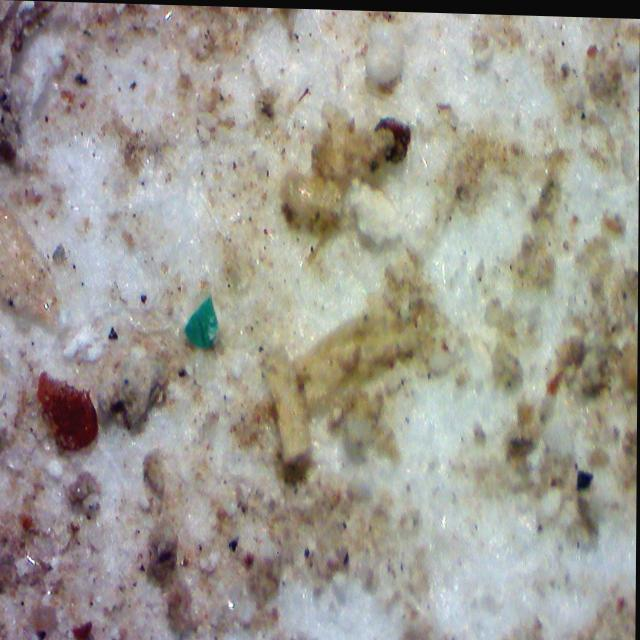microplastic: (35, 367, 103, 457), (180, 294, 219, 349)
